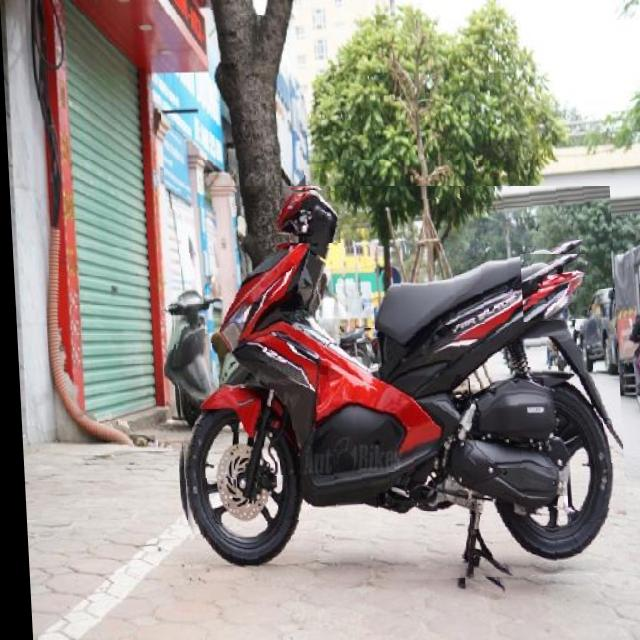All: (162, 186, 624, 588)
Head: (270, 189, 338, 243)
Tail: (517, 254, 586, 322)
